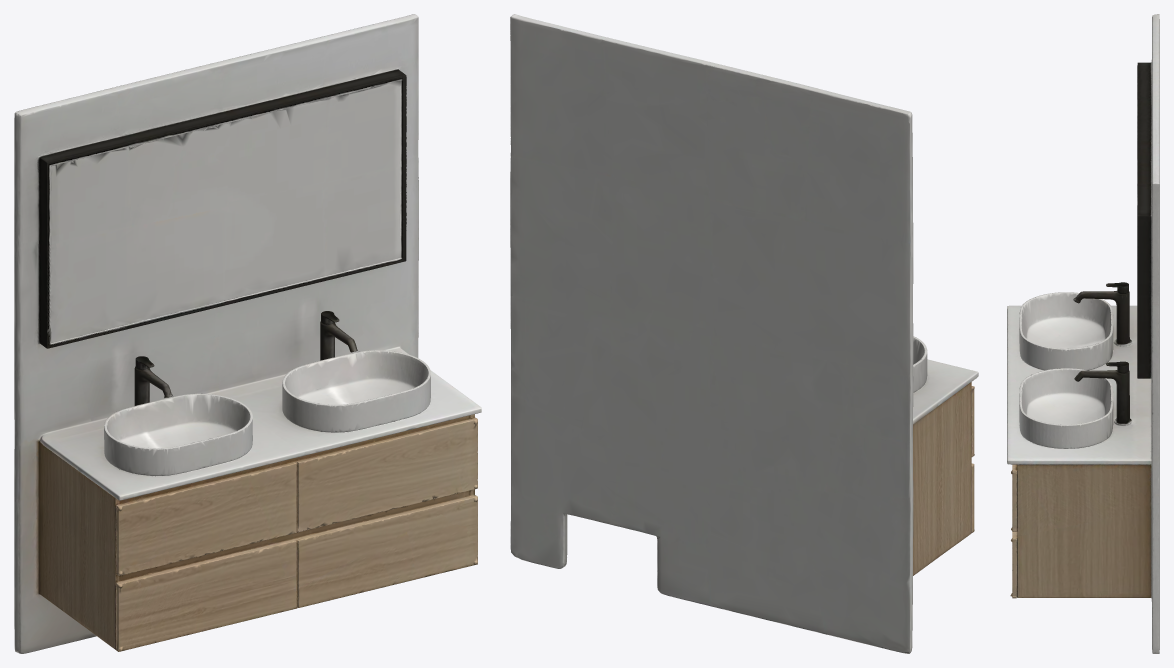
File: vasque.glb
3 renders of one model, left to right at view 1: azimuth 30°, elevation 25°; view 2: azimuth 150°, elevation 25°; view 3: azimuth 270°, elevation 25°, orthographic. The views are drawn at different scales.
Visible parts, largest first — view 1: tripo_node_98728b75-fa29-4e99-b431-58d11a3b41f0; view 2: tripo_node_98728b75-fa29-4e99-b431-58d11a3b41f0; view 3: tripo_node_98728b75-fa29-4e99-b431-58d11a3b41f0.
Part boxes in pixels (x1,y1,x2,y2): tripo_node_98728b75-fa29-4e99-b431-58d11a3b41f0: (14, 14, 481, 653); tripo_node_98728b75-fa29-4e99-b431-58d11a3b41f0: (510, 14, 978, 653); tripo_node_98728b75-fa29-4e99-b431-58d11a3b41f0: (1007, 14, 1159, 653).
Size of the model in its own units: 0.7589 by 0.9792 by 0.286.
1 material, 1 textured.
